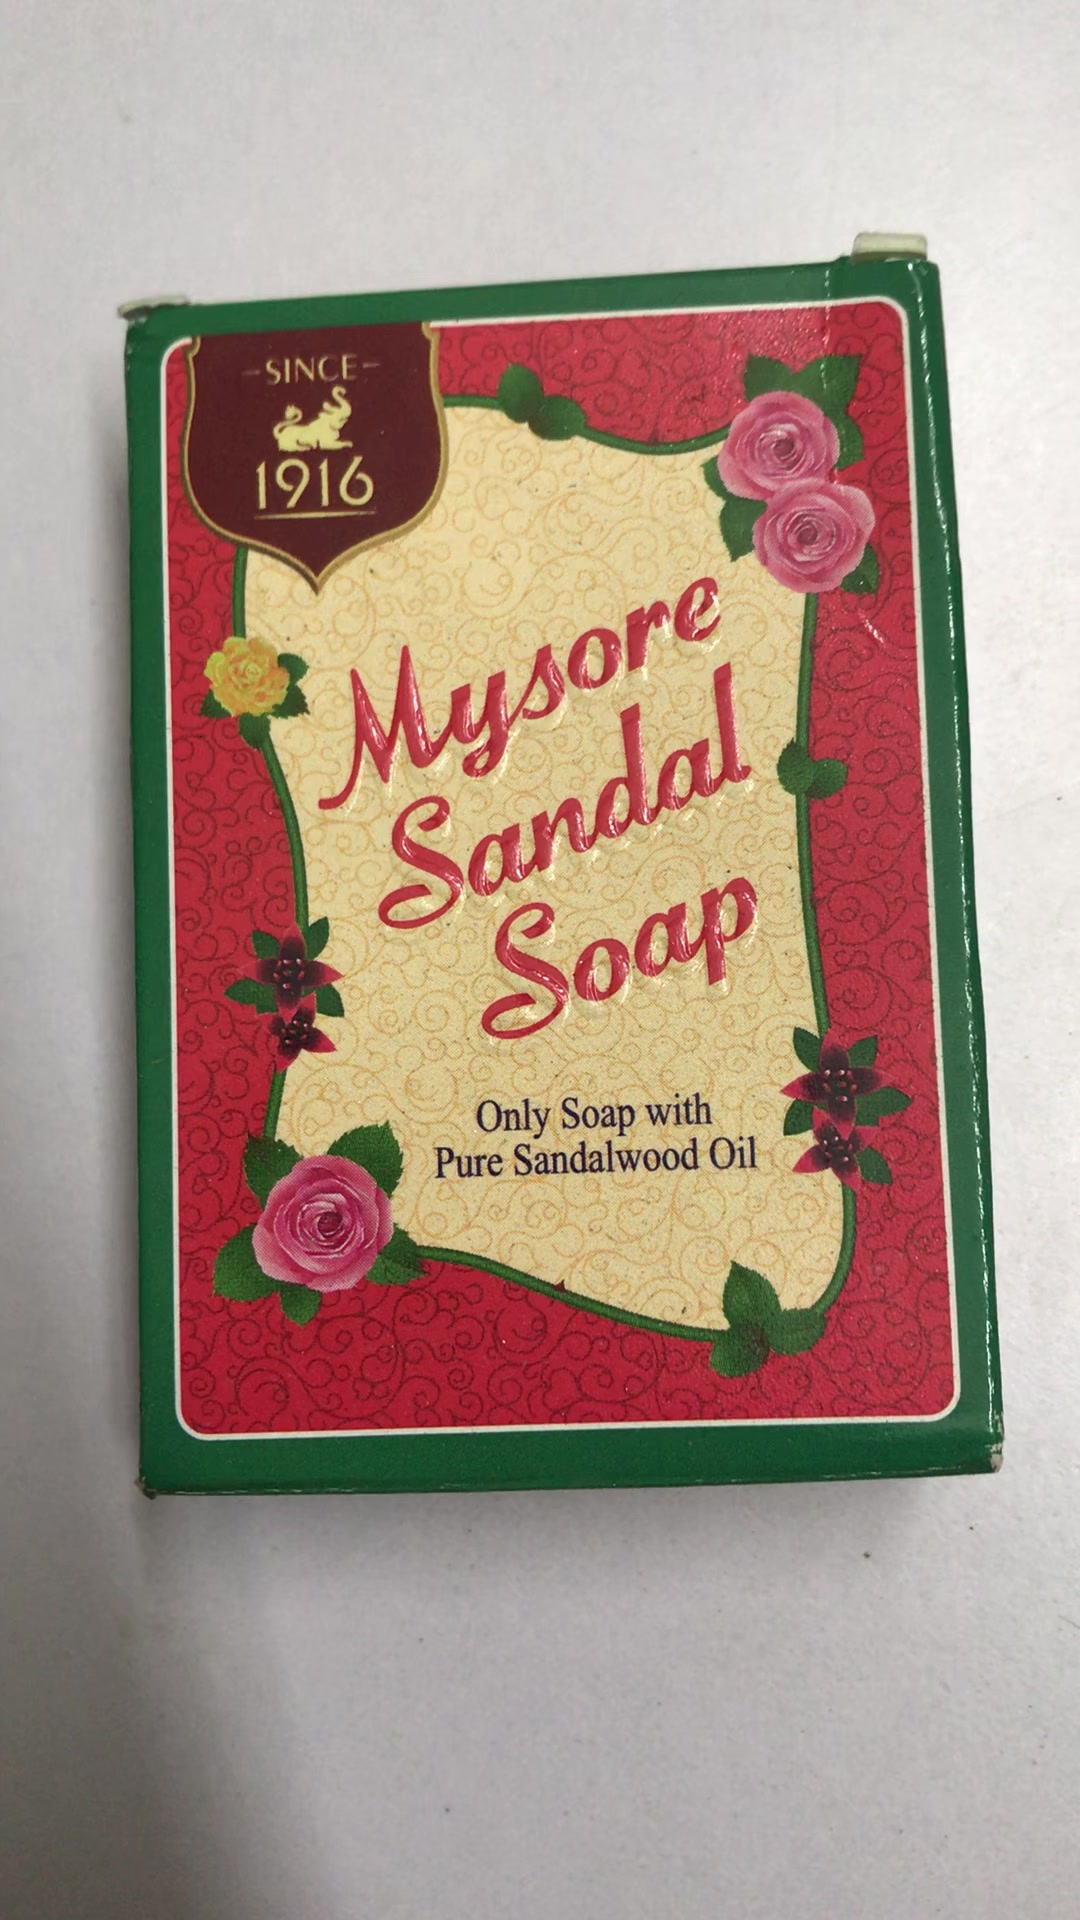mysore sandal soap: (123, 277, 993, 1495)
